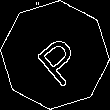P_NW: (25, 24, 85, 86)
